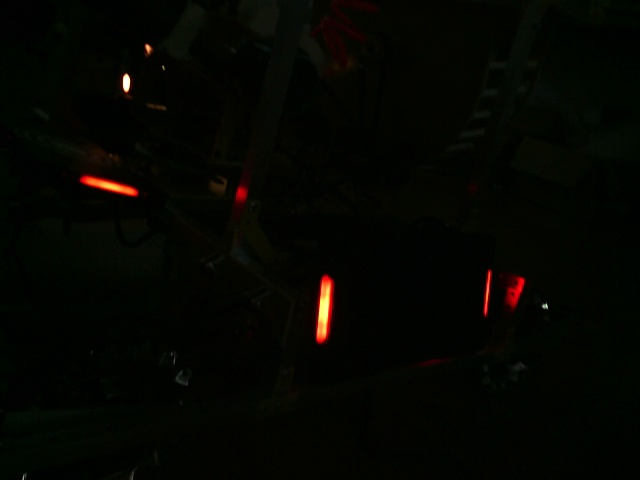lamp: (315, 273, 333, 346), (482, 269, 492, 319)
